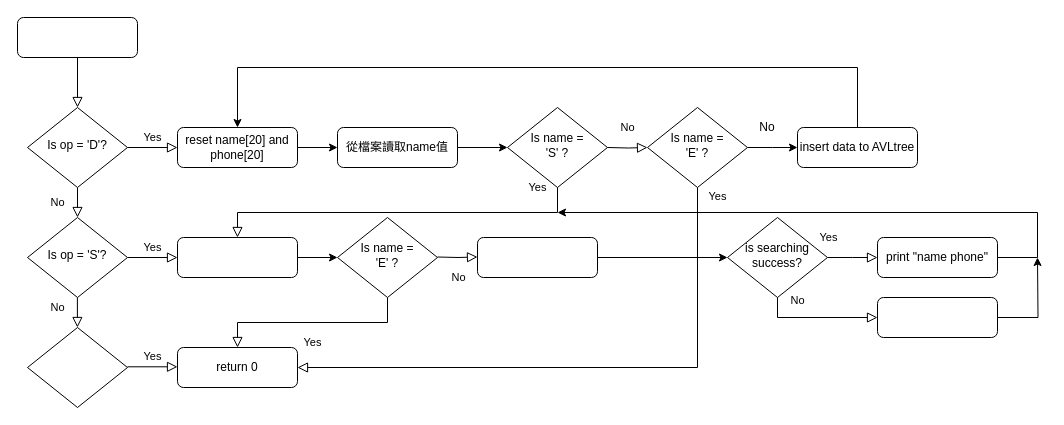
Image size: 1064x425. Some labels were removed from this diagram. Here are the shapes that lost their labels. From the top down, the centre of each, then its label:
point 77,37: 從檔案讀取op值
point 237,257: reset name[20]
point 537,257: search name in AVLtree
point 937,317: print "name null"
point 77,367: Is op = 'E'?
